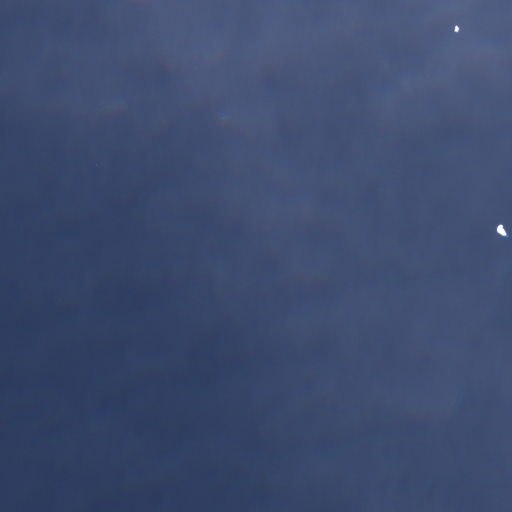Iceberg: (496, 224, 508, 236), (454, 25, 459, 32)
